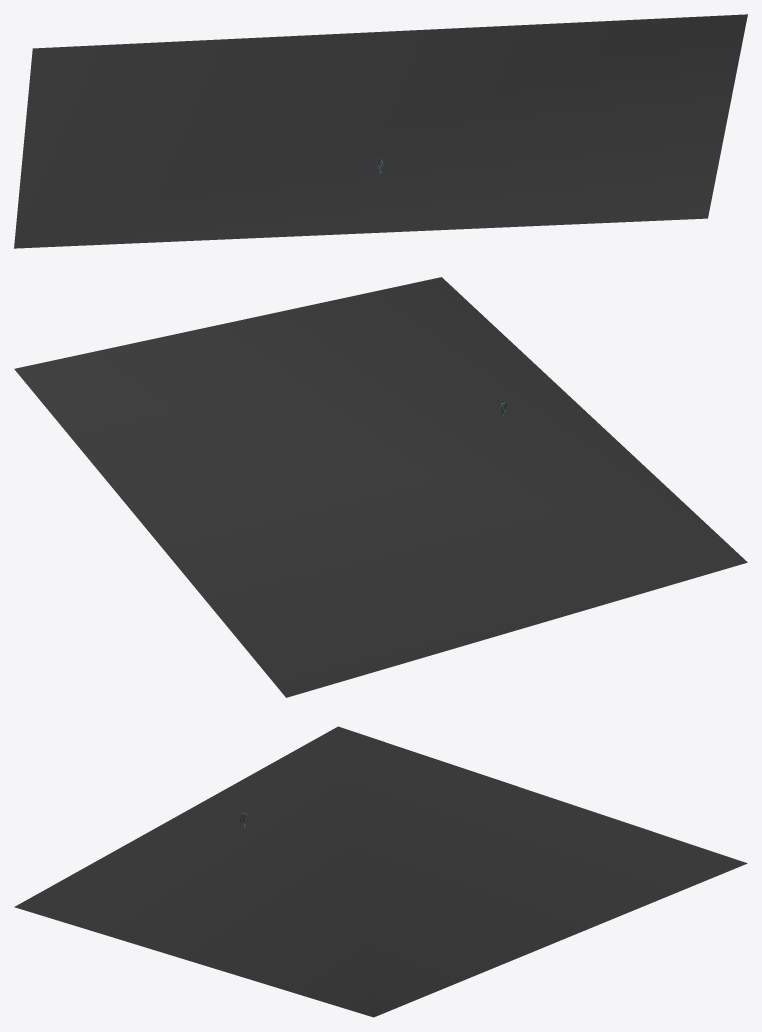
File: poise-by-angela-conner.glb
The picture shows the model from 3 angles, top to bottom: view 1: azimuth 30°, elevation 25°; view 2: azimuth 150°, elevation 25°; view 3: azimuth 270°, elevation 25°; orthographic projection. The views are drawn at different scales.
Visible parts, largest first — view 1: LOD0; view 2: LOD0; view 3: LOD0.
Part boxes in pixels (x1,y1,x2,y2): LOD0: (14,14,747,248); LOD0: (14,277,747,697); LOD0: (14,726,747,1017).
Size of what is drawn, in the model's own units: 268 by 29.22 by 258.
2 materials, 2 textured.
